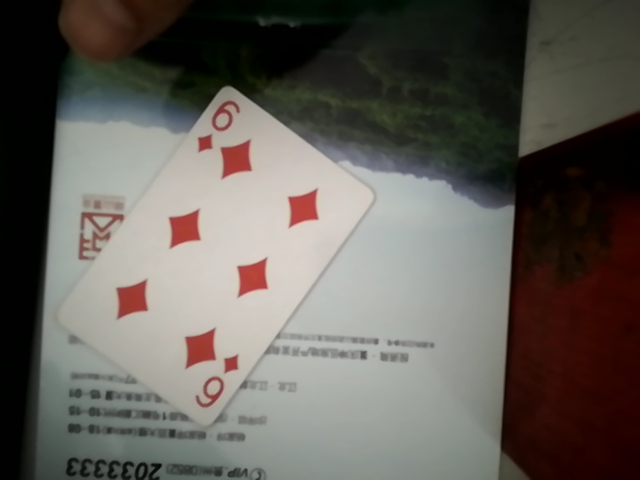fk 6: (62, 80, 372, 410)
